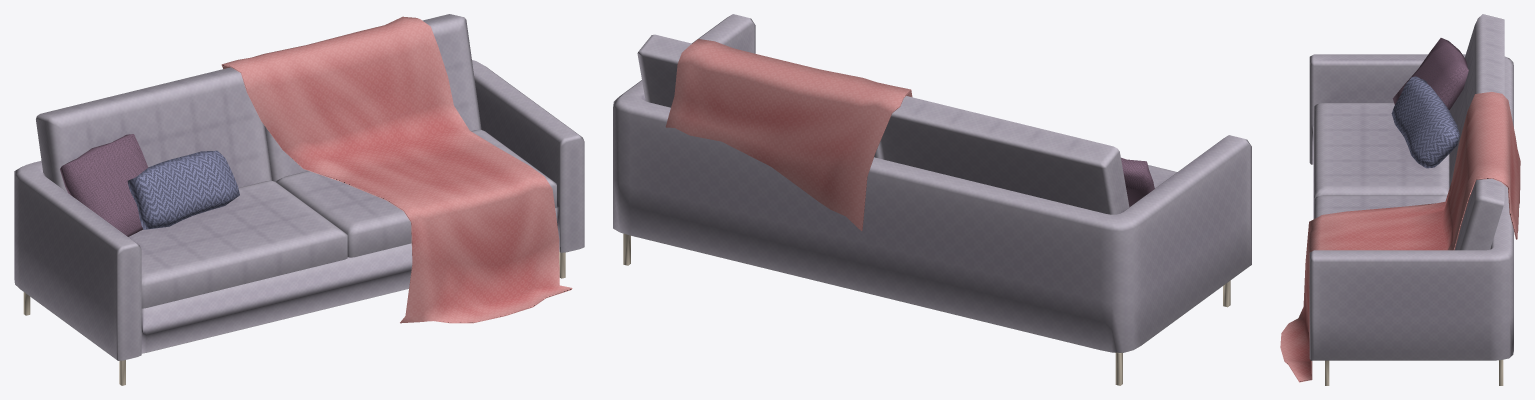
The model's file is couch.glb.
3 views of the same model, side by side, from view 1: azimuth 30°, elevation 25°; view 2: azimuth 150°, elevation 25°; view 3: azimuth 270°, elevation 25° (orthographic). The views are drawn at different scales.
Visible parts, largest first — view 1: Couch_low, Cloth_low, CushionA_low, CushionB_low; view 2: Couch_low, Cloth_low, CushionB_low; view 3: Couch_low, Cloth_low, CushionA_low, CushionB_low.
Part boxes in pixels (x1,y1,x2,y2): Couch_low: (14,14,584,385); Cloth_low: (221,16,572,323); CushionA_low: (127,150,239,229); CushionB_low: (60,134,148,236); Couch_low: (613,14,1251,385); Cloth_low: (665,39,912,231); CushionB_low: (1121,157,1154,206); Couch_low: (1309,14,1513,385); Cloth_low: (1280,92,1520,382); CushionA_low: (1391,76,1459,168); CushionB_low: (1392,38,1468,109).
Size of the model in its own units: 2.2 by 0.932 by 1.08.
Materials: 1 (1 with a texture image).
